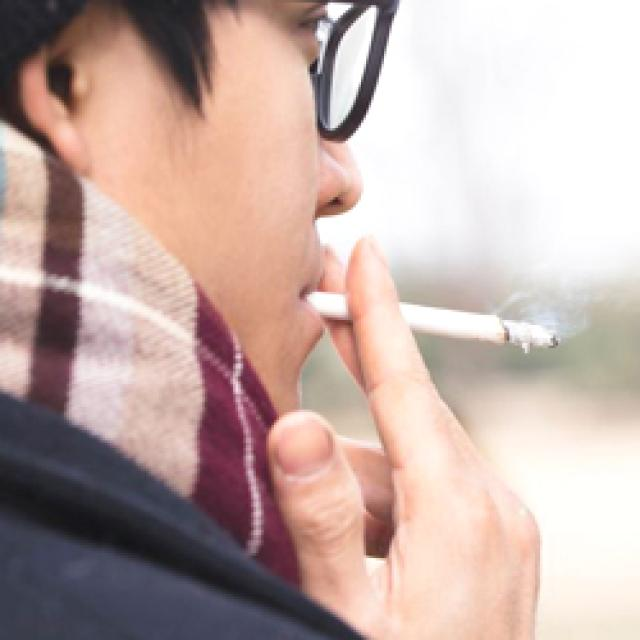Smooking: (295, 284, 572, 376)
